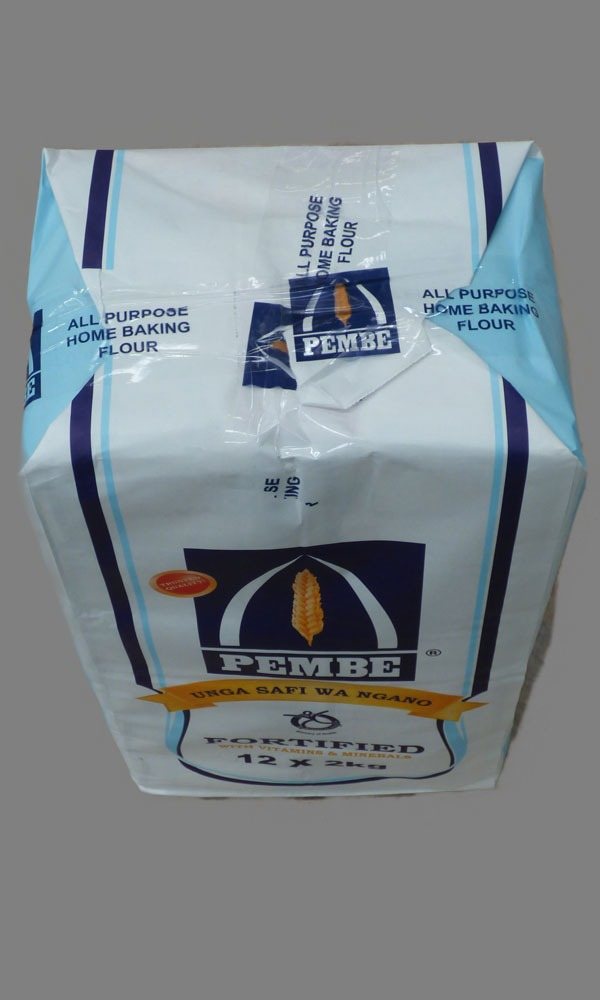wheat_flour_blue_label: (44, 134, 589, 787)
